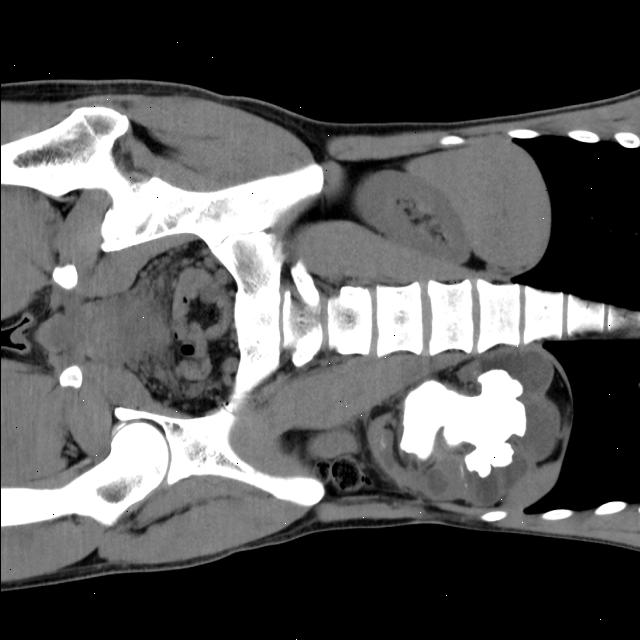kidneystone: (401, 370, 525, 478)
